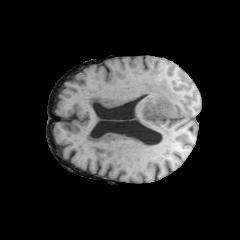glioma: (86, 69, 181, 126)
